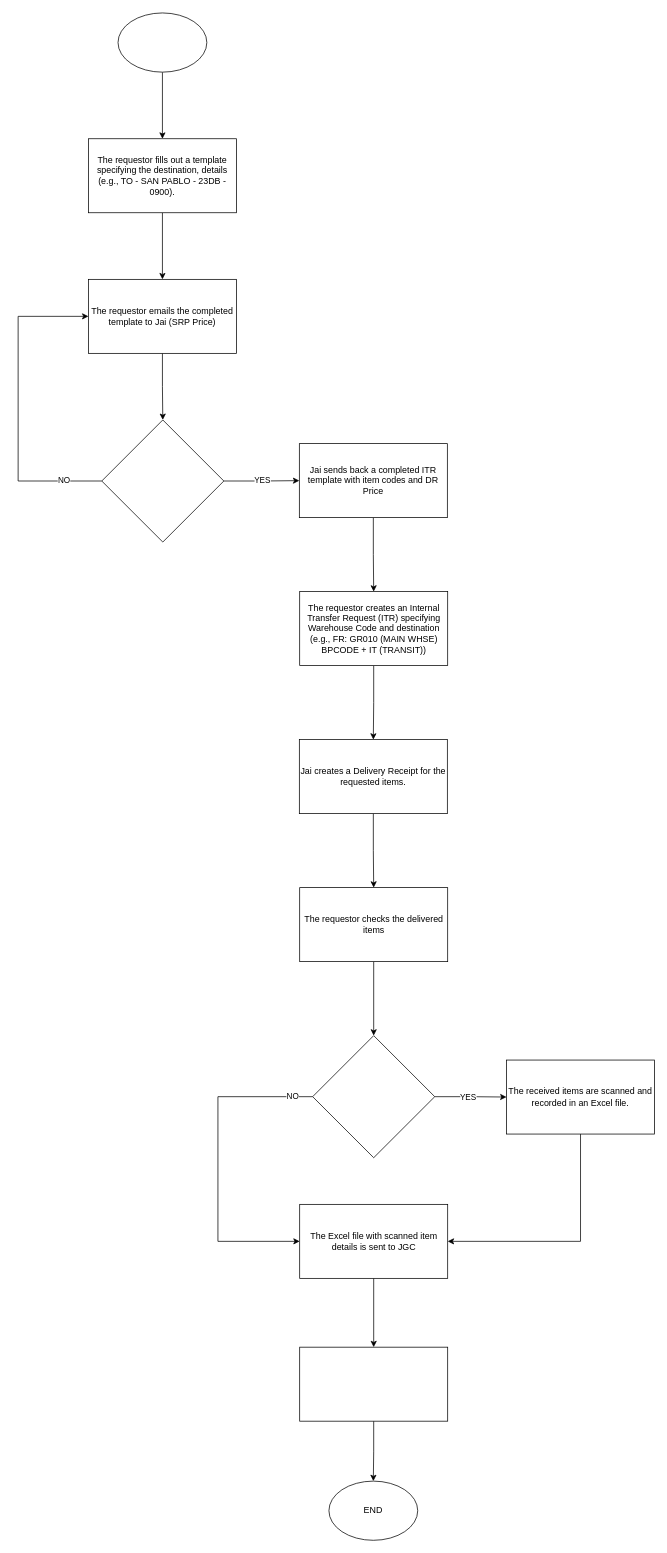
This 667x1553 diagram has some shape labels left out. Each missing label, with the centre of its shape:
"For To-Manila Bay?" goes at (373,1096).
"SRP Price Available?" goes at (162,480).
"Start" goes at (162,42).
"The requestor creates a transaction for the bonded warehouse." goes at (373,1383).
